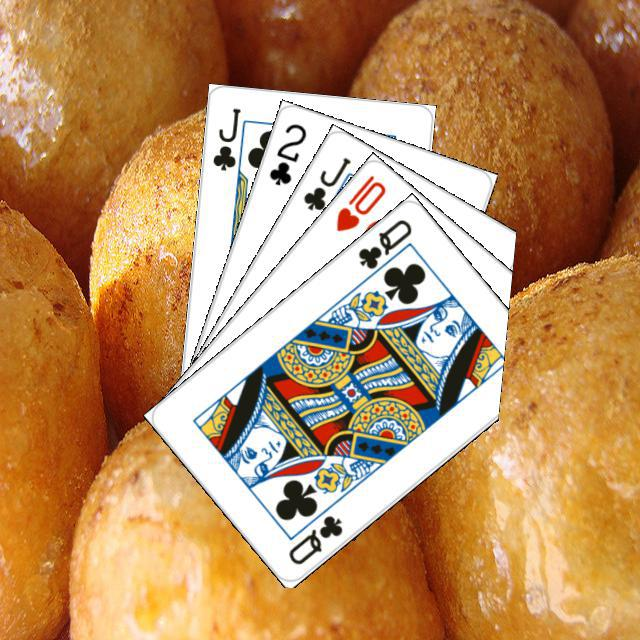10h: (330, 170, 388, 234)
2c: (264, 118, 308, 187)
Jc: (298, 152, 353, 213), (207, 103, 242, 172)
Qc: (352, 214, 416, 283), (283, 510, 345, 567)
